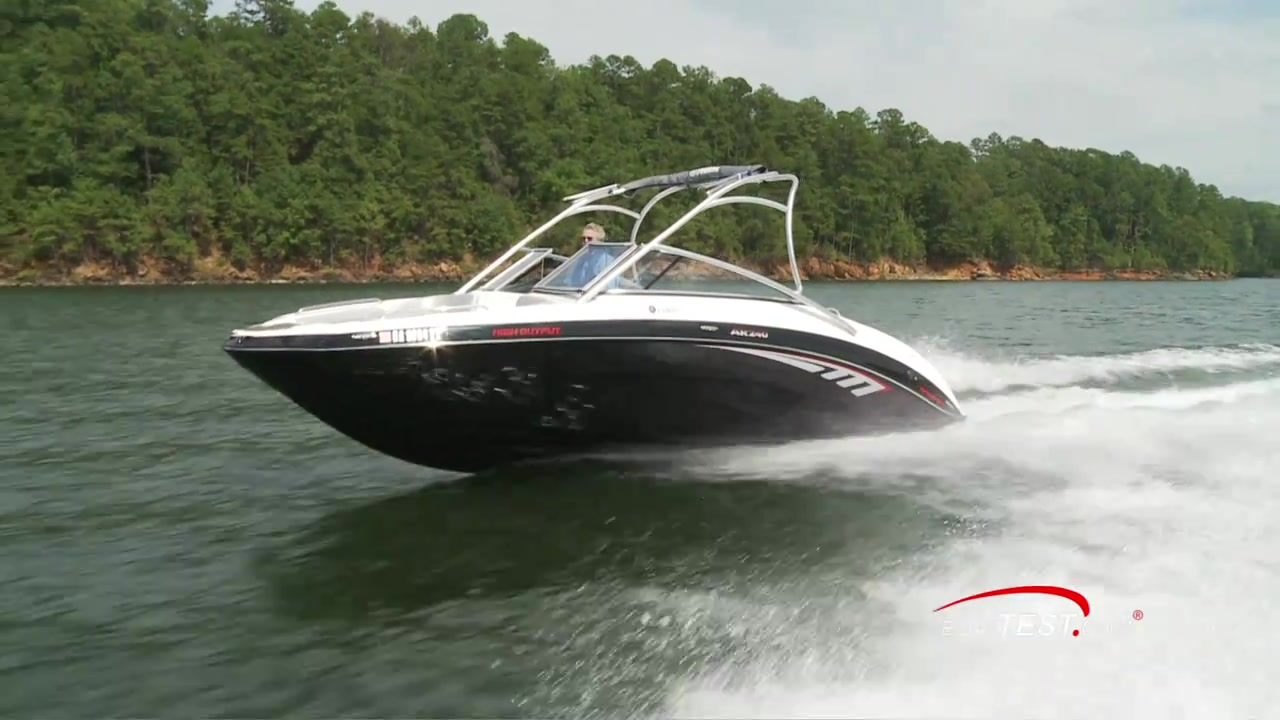boat: (219, 162, 969, 477)
